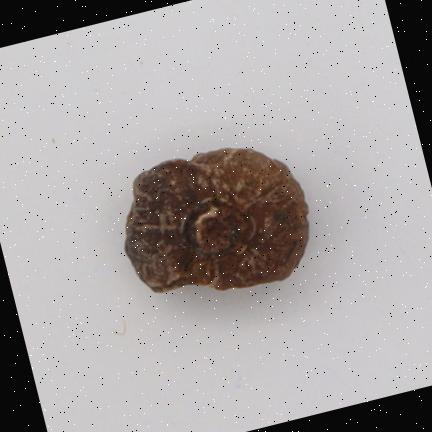husk: (126, 147, 308, 291)
